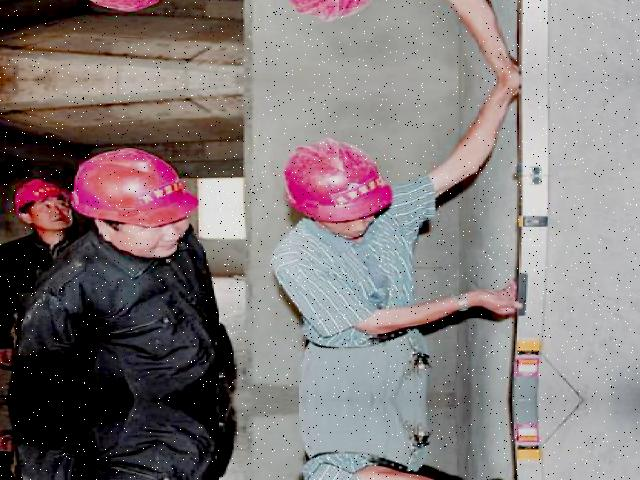Helmet: (66, 139, 205, 235), (282, 134, 398, 224), (10, 174, 73, 217)
